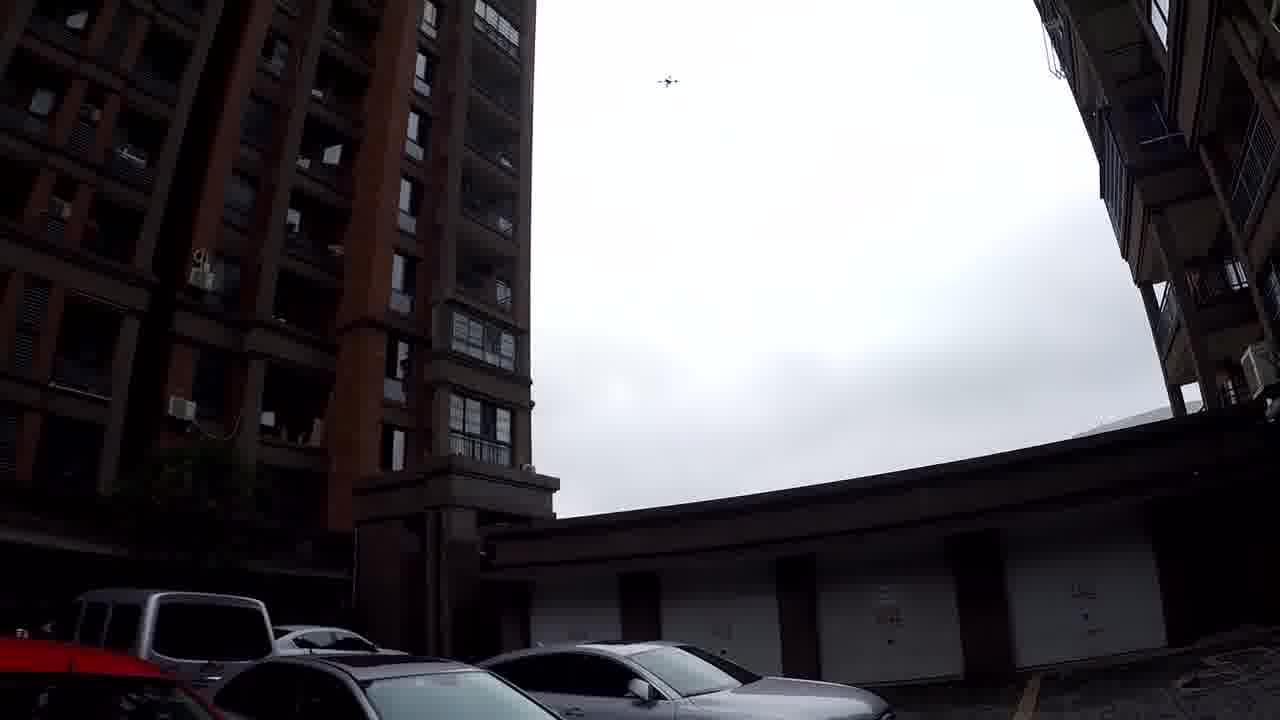drone: (633, 50, 690, 95)
